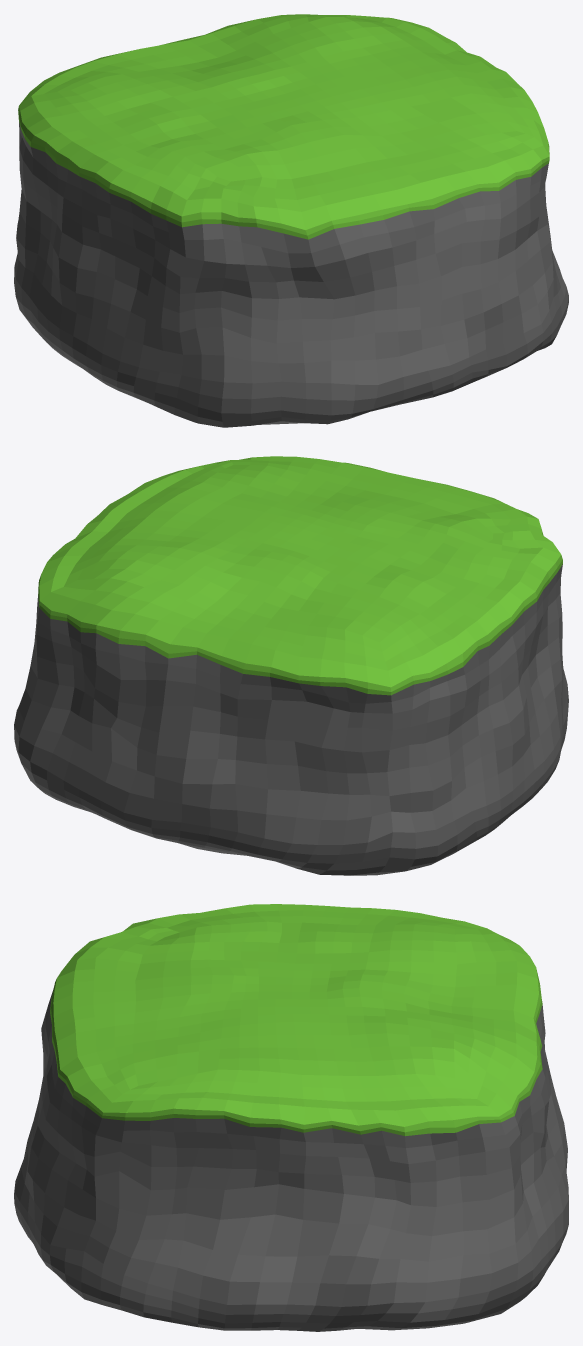
File: boulder4.fbx
3 renders of one model, top to bottom at view 1: azimuth 30°, elevation 25°; view 2: azimuth 150°, elevation 25°; view 3: azimuth 270°, elevation 25°, orthographic. The views are drawn at different scales.
Visible parts, largest first — view 1: Cube; view 2: Cube; view 3: Cube.
Boxes of the visible parts, x1,y1,x2,y2 form: Cube: (14, 14, 568, 427); Cube: (14, 456, 568, 875); Cube: (14, 904, 568, 1331).
Size of the model in its own units: 451 by 238 by 453.
